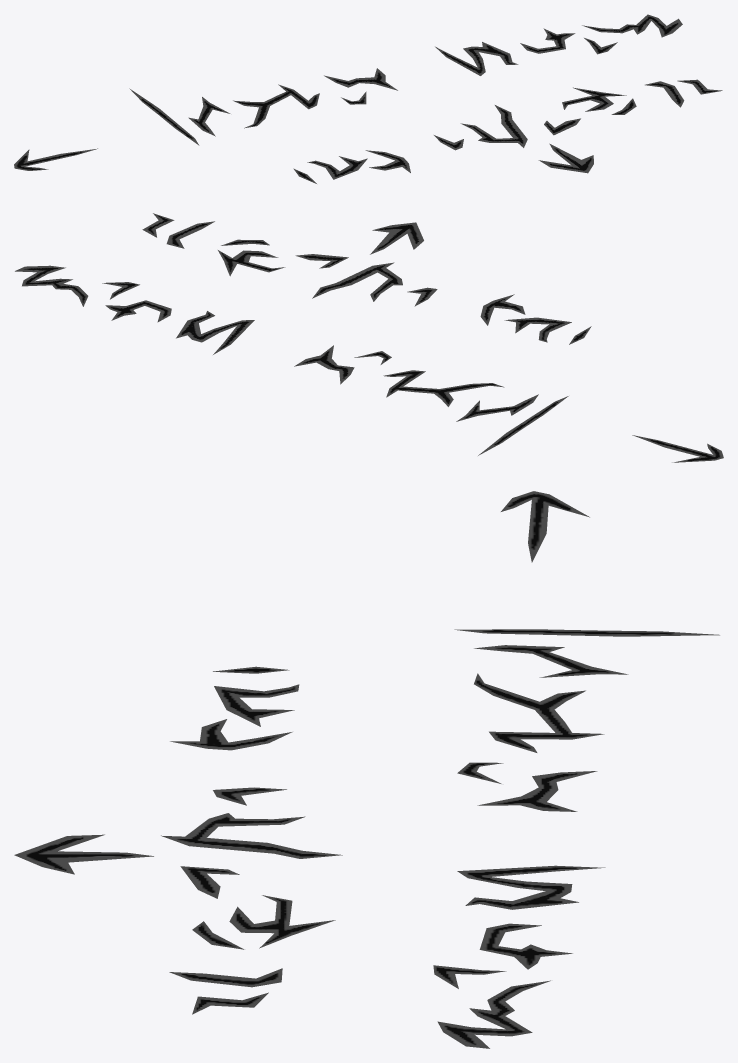
The model's file is scratches.fbx.
3 renders of one model, top to bottom at view 1: azimuth 30°, elevation 25°; view 2: azimuth 150°, elevation 25°; view 3: azimuth 270°, elevation 25°, orthographic. The views are drawn at different scales.
Visible parts, largest first — view 1: Plane; view 2: Plane; view 3: Plane.
Boxes of the visible parts, x1,y1,x2,y2 form: Plane: [14, 14, 722, 183]; Plane: [15, 213, 723, 462]; Plane: [14, 491, 719, 1048].
Size of the model in its own units: 1055 by 568 by 0.
